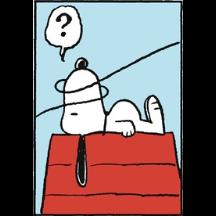charlie: (59, 55, 165, 188)
